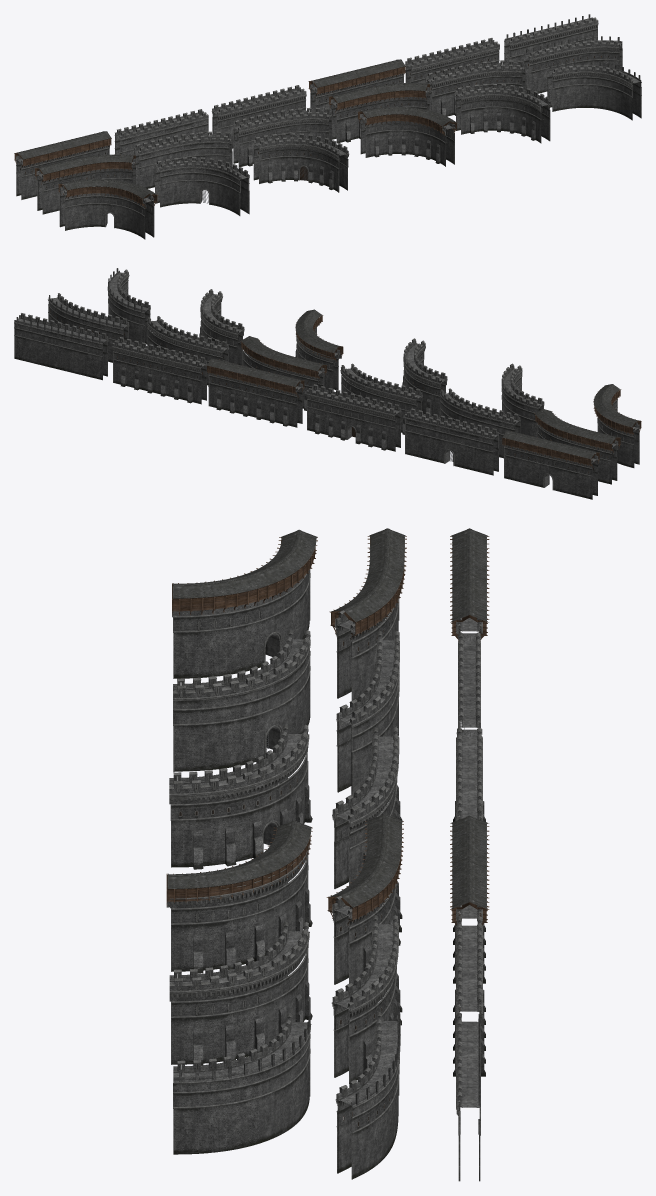
File: RenderCrate-Castle_Walls.fbx
The picture shows the model from 3 angles, top to bottom: view 1: azimuth 30°, elevation 25°; view 2: azimuth 150°, elevation 25°; view 3: azimuth 270°, elevation 25°; orthographic projection. The views are drawn at different scales.
Parts seen in each view (by area): view 1: Castle_Wall_C_Corner, Castle_Wall_F_Corner, Castle_Wall_B_Corner, Castle_Wall_D_Corner, Castle_Wall_E_Corner, Castle_Wall_A_Corner, Castle_Wall_C_Bend, Castle_Wall_F_Bend, Castle_Wall_D_Bend, Castle_Wall_A_Bend, Castle_Wall_E_Bend, Castle_Wall_B_Bend (+6 smaller); view 2: Castle_Wall_C_Straight, Castle_Wall_F_Straight, Castle_Wall_B_Straight, Castle_Wall_D_Straight, Castle_Wall_A_Straight, Castle_Wall_E_Straight, Castle_Wall_F_Bend, Castle_Wall_C_Bend, Castle_Wall_F_Corner, Castle_Wall_D_Bend, Castle_Wall_A_Bend, Castle_Wall_C_Corner (+6 smaller); view 3: Castle_Wall_C_Corner, Castle_Wall_F_Corner, Castle_Wall_A_Corner, Castle_Wall_D_Corner, Castle_Wall_B_Corner, Castle_Wall_E_Corner, Castle_Wall_F_Bend, Castle_Wall_C_Bend, Castle_Wall_A_Bend, Castle_Wall_B_Bend, Castle_Wall_E_Bend, Castle_Wall_D_Bend (+6 smaller).
Boxes of the visible parts, x1,y1,x2,y2 form: Castle_Wall_C_Corner: (358,107,457,166); Castle_Wall_F_Corner: (58,179,157,239); Castle_Wall_B_Corner: (455,83,551,143); Castle_Wall_D_Corner: (253,133,349,192); Castle_Wall_E_Corner: (155,157,249,215); Castle_Wall_A_Corner: (547,61,641,120); Castle_Wall_C_Bend: (328,83,429,143); Castle_Wall_F_Bend: (34,154,135,214); Castle_Wall_D_Bend: (232,107,331,167); Castle_Wall_A_Bend: (523,36,622,93); Castle_Wall_E_Bend: (133,131,232,188); Castle_Wall_B_Bend: (425,60,525,116); Castle_Wall_C_Straight: (207,358,304,427); Castle_Wall_F_Straight: (502,430,599,499); Castle_Wall_B_Straight: (112,337,207,404); Castle_Wall_D_Straight: (306,384,401,451); Castle_Wall_A_Straight: (14,313,108,380); Castle_Wall_E_Straight: (405,408,498,475); Castle_Wall_F_Bend: (534,408,620,484); Castle_Wall_C_Bend: (240,336,326,410); Castle_Wall_F_Corner: (593,384,641,467); Castle_Wall_D_Bend: (340,363,422,434); Castle_Wall_A_Bend: (48,293,129,362); Castle_Wall_C_Corner: (295,309,343,391); Castle_Wall_C_Corner: (166,820,312,973); Castle_Wall_F_Corner: (172,529,317,678); Castle_Wall_A_Corner: (173,1013,311,1154); Castle_Wall_D_Corner: (169,724,312,869); Castle_Wall_B_Corner: (169,922,312,1065); Castle_Wall_E_Corner: (173,630,310,772); Castle_Wall_F_Bend: (329,528,406,701); Castle_Wall_C_Bend: (326,813,403,985); Castle_Wall_A_Bend: (335,1012,400,1179); Castle_Wall_B_Bend: (331,915,402,1083); Castle_Wall_E_Bend: (336,631,399,797); Castle_Wall_D_Bend: (332,727,402,888).
Bounding box in the file's own units: 7720 × 1869 × 588.
1 material, 1 textured.
